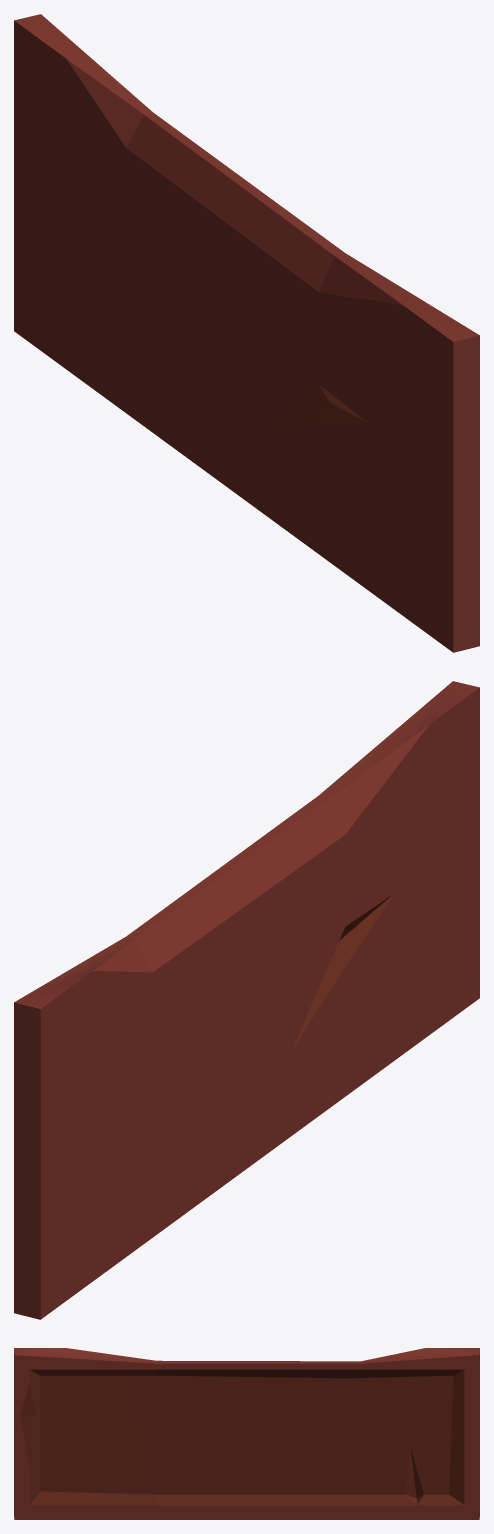
File: SM_Prop_Stall_Side_01.glb
The picture shows the model from 3 angles, top to bottom: view 1: azimuth 30°, elevation 25°; view 2: azimuth 150°, elevation 25°; view 3: azimuth 270°, elevation 25°; orthographic projection. The views are drawn at different scales.
Parts seen in each view (by area): view 1: SM_Prop_Stall_Side_01; view 2: SM_Prop_Stall_Side_01; view 3: SM_Prop_Stall_Side_01.
Boxes of the visible parts, x1=… form: SM_Prop_Stall_Side_01: x1=14, y1=14, x2=479, y2=652; SM_Prop_Stall_Side_01: x1=14, y1=681, x2=479, y2=1319; SM_Prop_Stall_Side_01: x1=14, y1=1348, x2=479, y2=1519.
Bounding box in the file's own units: 8.21 × 91.13 × 234.
1 material, 1 textured.
